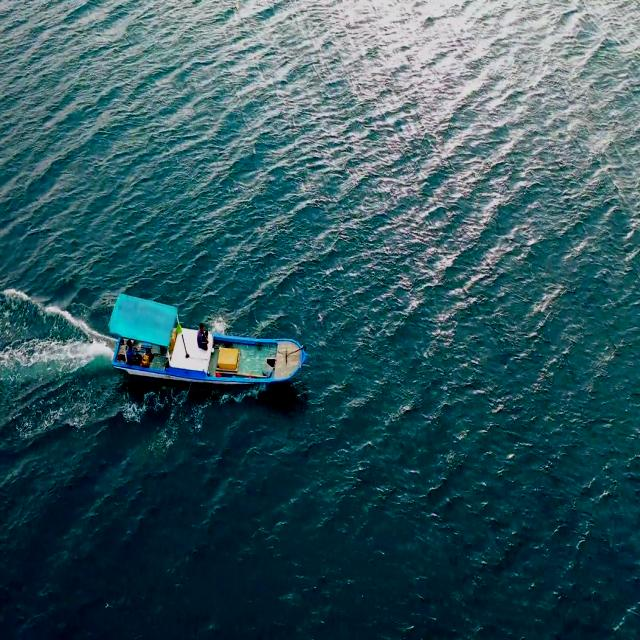ship: (107, 287, 314, 401)
